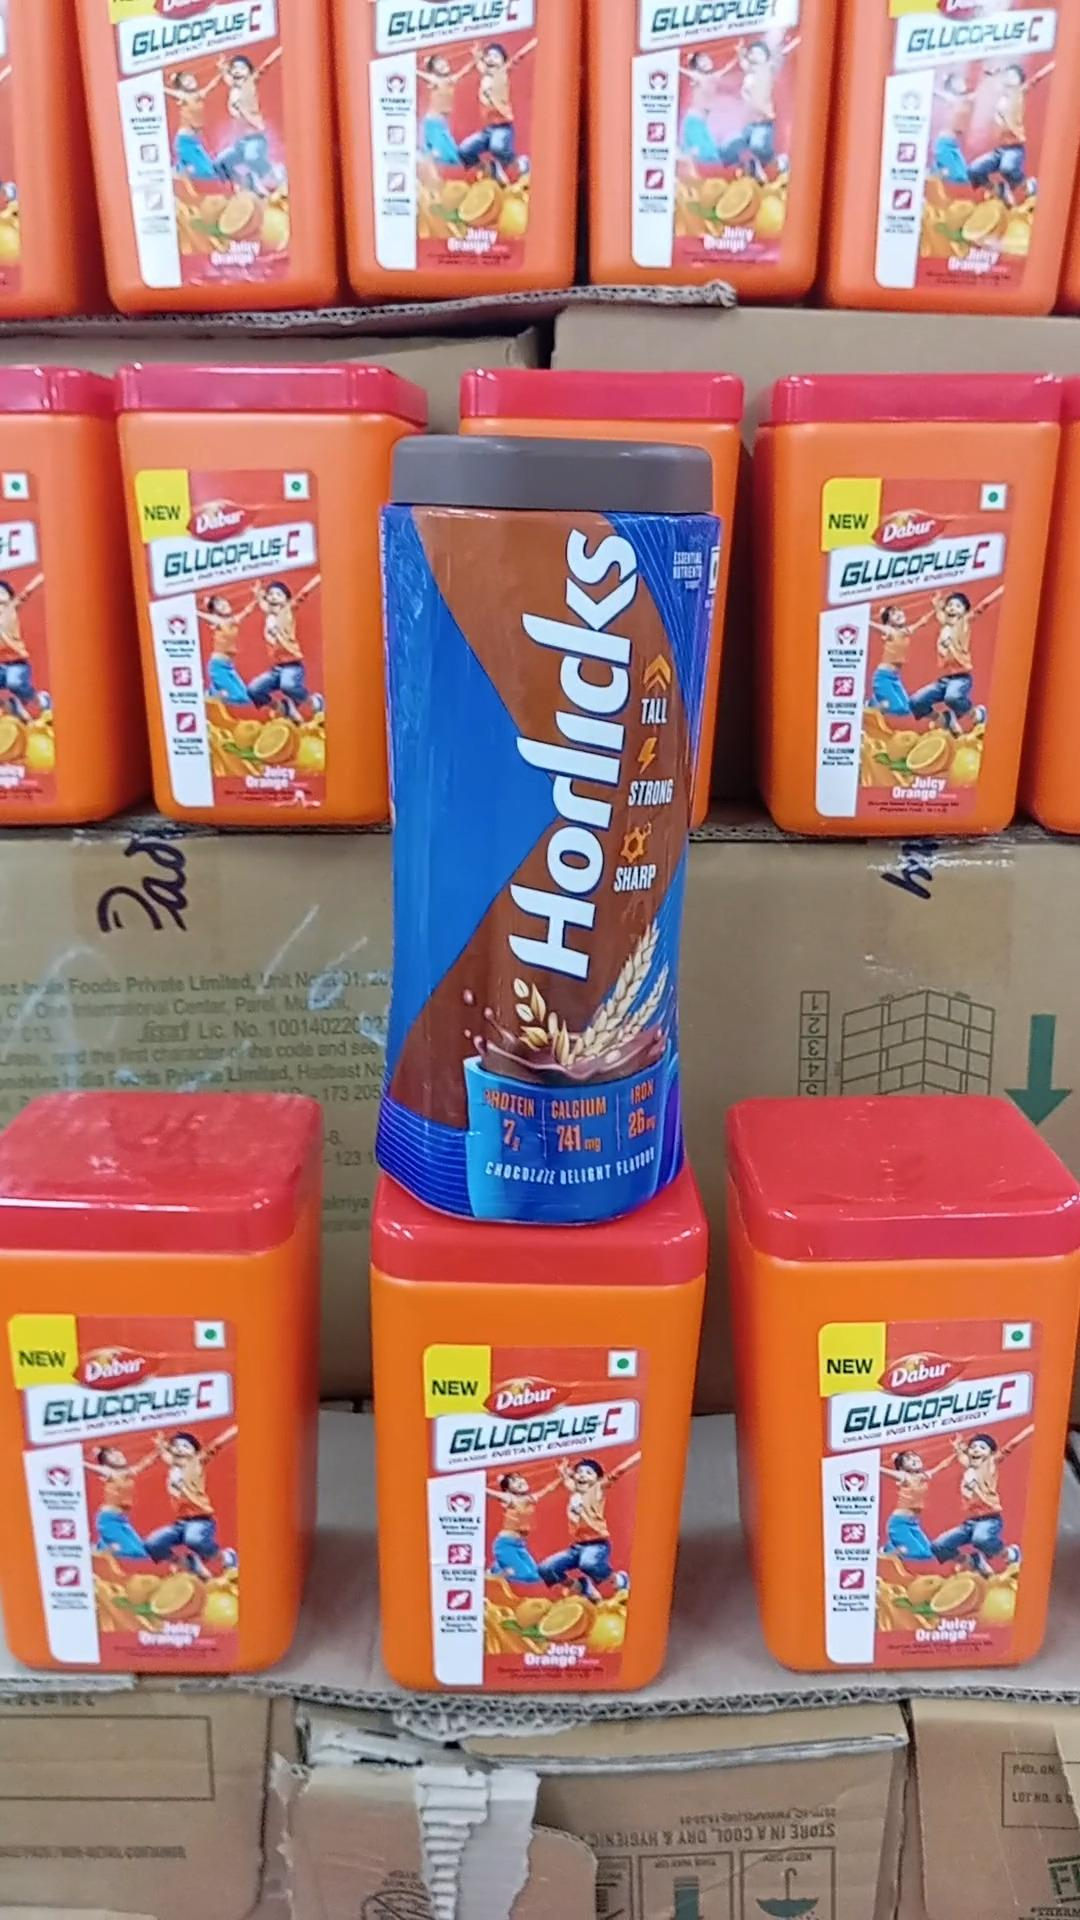HORLICK_CHOCOLATE_1_KG_JAR: (373, 435, 720, 1218)
